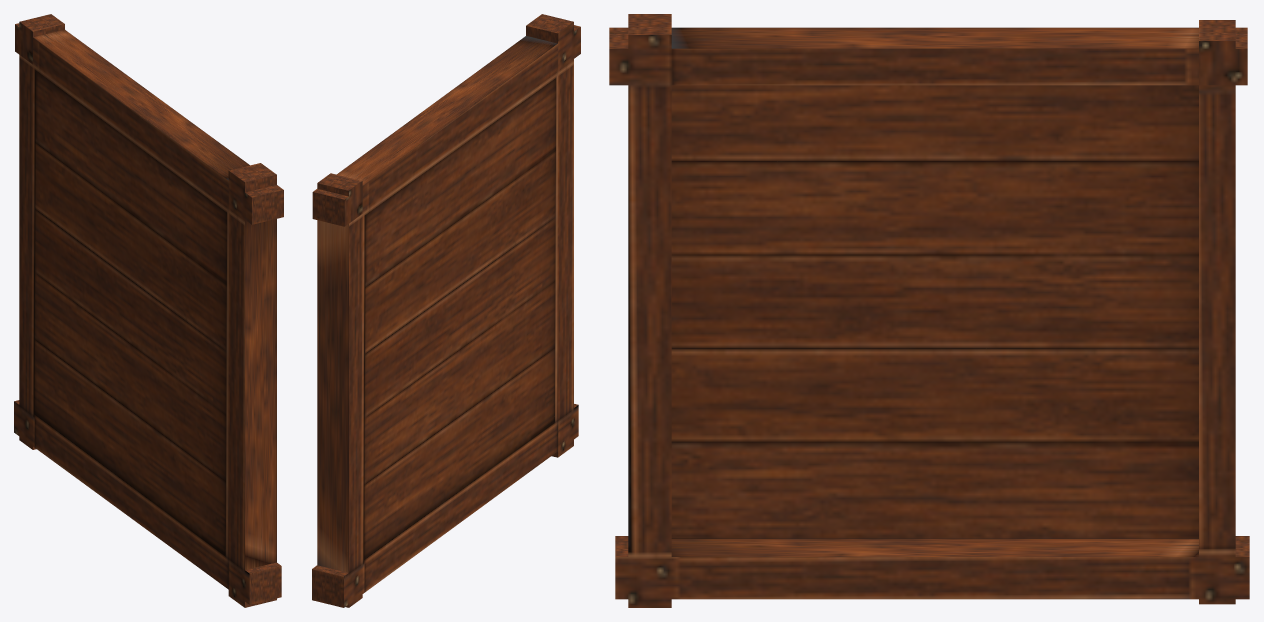
Rendered from potion_price.glb.
3 views of the same model, side by side, from view 1: azimuth 30°, elevation 25°; view 2: azimuth 150°, elevation 25°; view 3: azimuth 270°, elevation 25° (orthographic). The views are drawn at different scales.
Parts seen in each view (by area): view 1: Cube; view 2: Cube; view 3: Cube.
Boxes of the visible parts, bbox=[...] form: Cube: bbox=[14, 14, 283, 607]; Cube: bbox=[312, 14, 580, 607]; Cube: bbox=[609, 14, 1249, 607].
Bounding box in the file's own units: 0.1635 × 2.08 × 2.11.
1 material, 1 textured.
